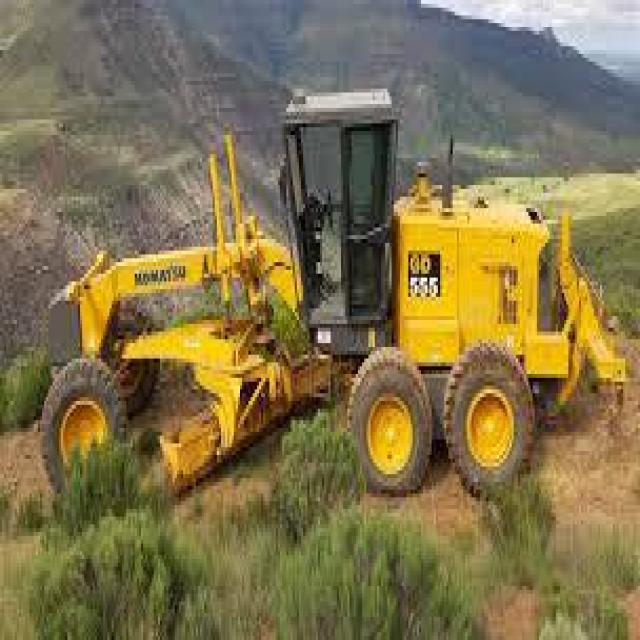Grader: (31, 77, 638, 544)
